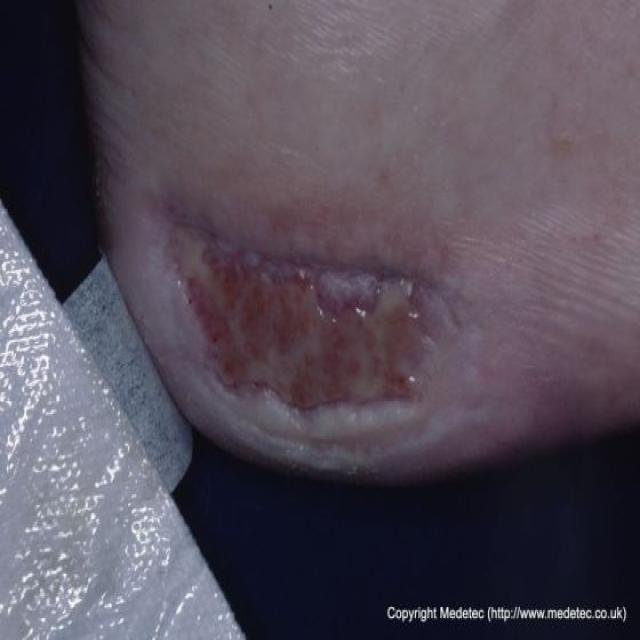stage-3: (175, 235, 429, 405)
